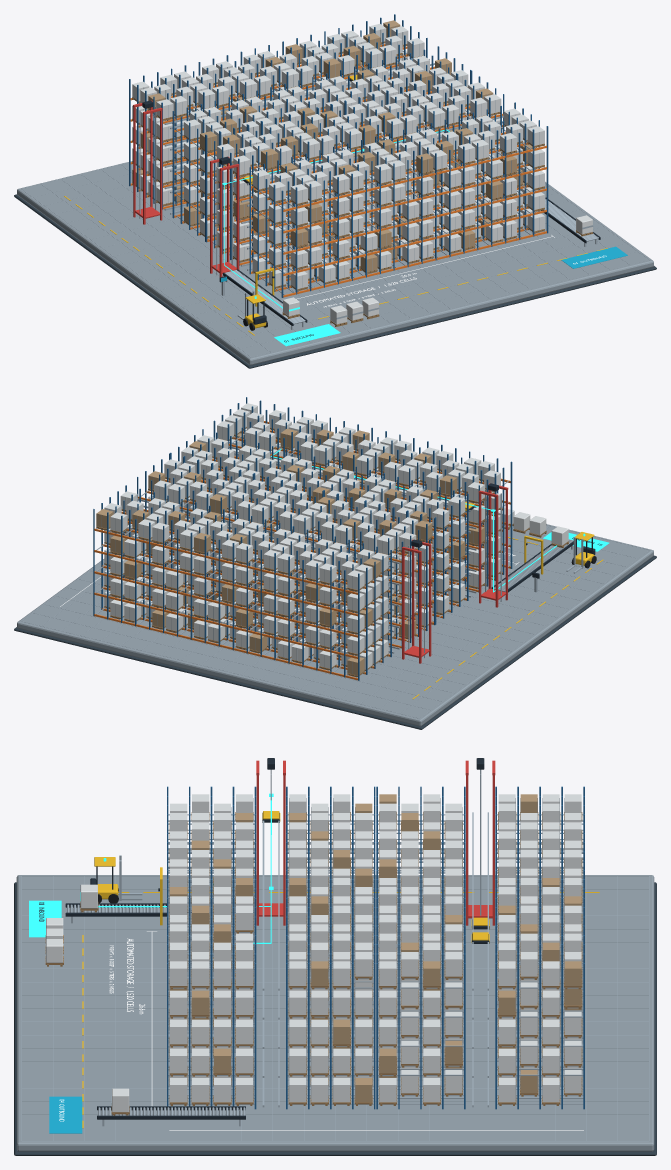
The model's file is warehouse-higgsfield.glb.
The picture shows the model from 3 angles, top to bottom: view 1: azimuth 30°, elevation 25°; view 2: azimuth 150°, elevation 25°; view 3: azimuth 270°, elevation 25°; orthographic projection. The views are drawn at different scales.
Visible parts, largest first — view 1: WAREHOUSE_500_PYEONG, RACK_1_uprights, RACK_4_TIER_5_wrapped_cargo, RACK_1_TIER_5_wrapped_cargo, RACK_2_TIER_5_wrapped_cargo, RACK_3_TIER_5_wrapped_cargo, RACK_1_orange_beams, RACK_1_TIER_2_wrapped_cargo, RACK_1_TIER_4_wrapped_cargo, RACK_1_TIER_1_wrapped_cargo, RACK_2_uprights, RACK_4_uprights (+30 smaller); view 2: WAREHOUSE_500_PYEONG, RACK_4_uprights, RACK_4_TIER_5_wrapped_cargo, RACK_3_TIER_5_wrapped_cargo, RACK_1_TIER_5_wrapped_cargo, RACK_2_TIER_5_wrapped_cargo, RACK_4_orange_beams, RACK_1_uprights, RACK_4_TIER_2_wrapped_cargo, RACK_4_TIER_4_wrapped_cargo, RACK_3_uprights, RACK_4_TIER_1_wrapped_cargo (+29 smaller); view 3: WAREHOUSE_500_PYEONG, RACK_4_TIER_5_wrapped_cargo, RACK_1_TIER_5_wrapped_cargo, RACK_3_TIER_5_wrapped_cargo, RACK_2_TIER_5_wrapped_cargo, Two metre floor grid, Foundation plinth, RACK_3_deep_lane_rails, RACK_1_uprights, RACK_4_deep_lane_rails, RACK_1_deep_lane_rails, RACK_2_deep_lane_rails (+37 smaller).
Boxes of the visible parts, x1,y1,x2,y2 form: WAREHOUSE_500_PYEONG: (17, 153, 653, 365); RACK_1_uprights: (249, 102, 548, 297); RACK_4_TIER_5_wrapped_cargo: (132, 24, 424, 118); RACK_1_TIER_5_wrapped_cargo: (252, 108, 544, 203); RACK_2_TIER_5_wrapped_cargo: (217, 80, 501, 174); RACK_3_TIER_5_wrapped_cargo: (184, 55, 468, 145); RACK_1_orange_beams: (251, 125, 546, 297); RACK_1_TIER_2_wrapped_cargo: (252, 187, 544, 267); RACK_1_TIER_4_wrapped_cargo: (252, 140, 544, 224); RACK_1_TIER_1_wrapped_cargo: (252, 204, 544, 289); RACK_2_uprights: (205, 70, 504, 265); RACK_4_uprights: (129, 14, 427, 209); WAREHOUSE_500_PYEONG: (17, 524, 653, 726); RACK_4_uprights: (93, 485, 391, 680); RACK_4_TIER_5_wrapped_cargo: (104, 491, 388, 589); RACK_3_TIER_5_wrapped_cargo: (154, 459, 418, 554); RACK_1_TIER_5_wrapped_cargo: (217, 403, 500, 501); RACK_2_TIER_5_wrapped_cargo: (181, 435, 465, 527); RACK_4_orange_beams: (94, 509, 390, 680); RACK_1_uprights: (213, 397, 512, 592); RACK_4_TIER_2_wrapped_cargo: (104, 569, 388, 653); RACK_4_TIER_4_wrapped_cargo: (104, 524, 388, 611); RACK_3_uprights: (137, 453, 435, 648); RACK_4_TIER_1_wrapped_cargo: (104, 590, 388, 669); WAREHOUSE_500_PYEONG: (16, 875, 654, 1151); RACK_4_TIER_5_wrapped_cargo: (498, 794, 581, 985); RACK_1_TIER_5_wrapped_cargo: (170, 794, 252, 985); RACK_3_TIER_5_wrapped_cargo: (379, 794, 462, 985); RACK_2_TIER_5_wrapped_cargo: (289, 794, 372, 985); Two metre floor grid: (21, 876, 649, 1141); Foundation plinth: (14, 882, 656, 1155); RACK_3_deep_lane_rails: (378, 814, 463, 1104); RACK_1_uprights: (167, 786, 256, 1109); RACK_4_deep_lane_rails: (497, 814, 583, 1104); RACK_1_deep_lane_rails: (168, 814, 254, 1104); RACK_2_deep_lane_rails: (287, 814, 373, 1104).
Bounding box in the file's own units: 41 × 11.99 × 41.
